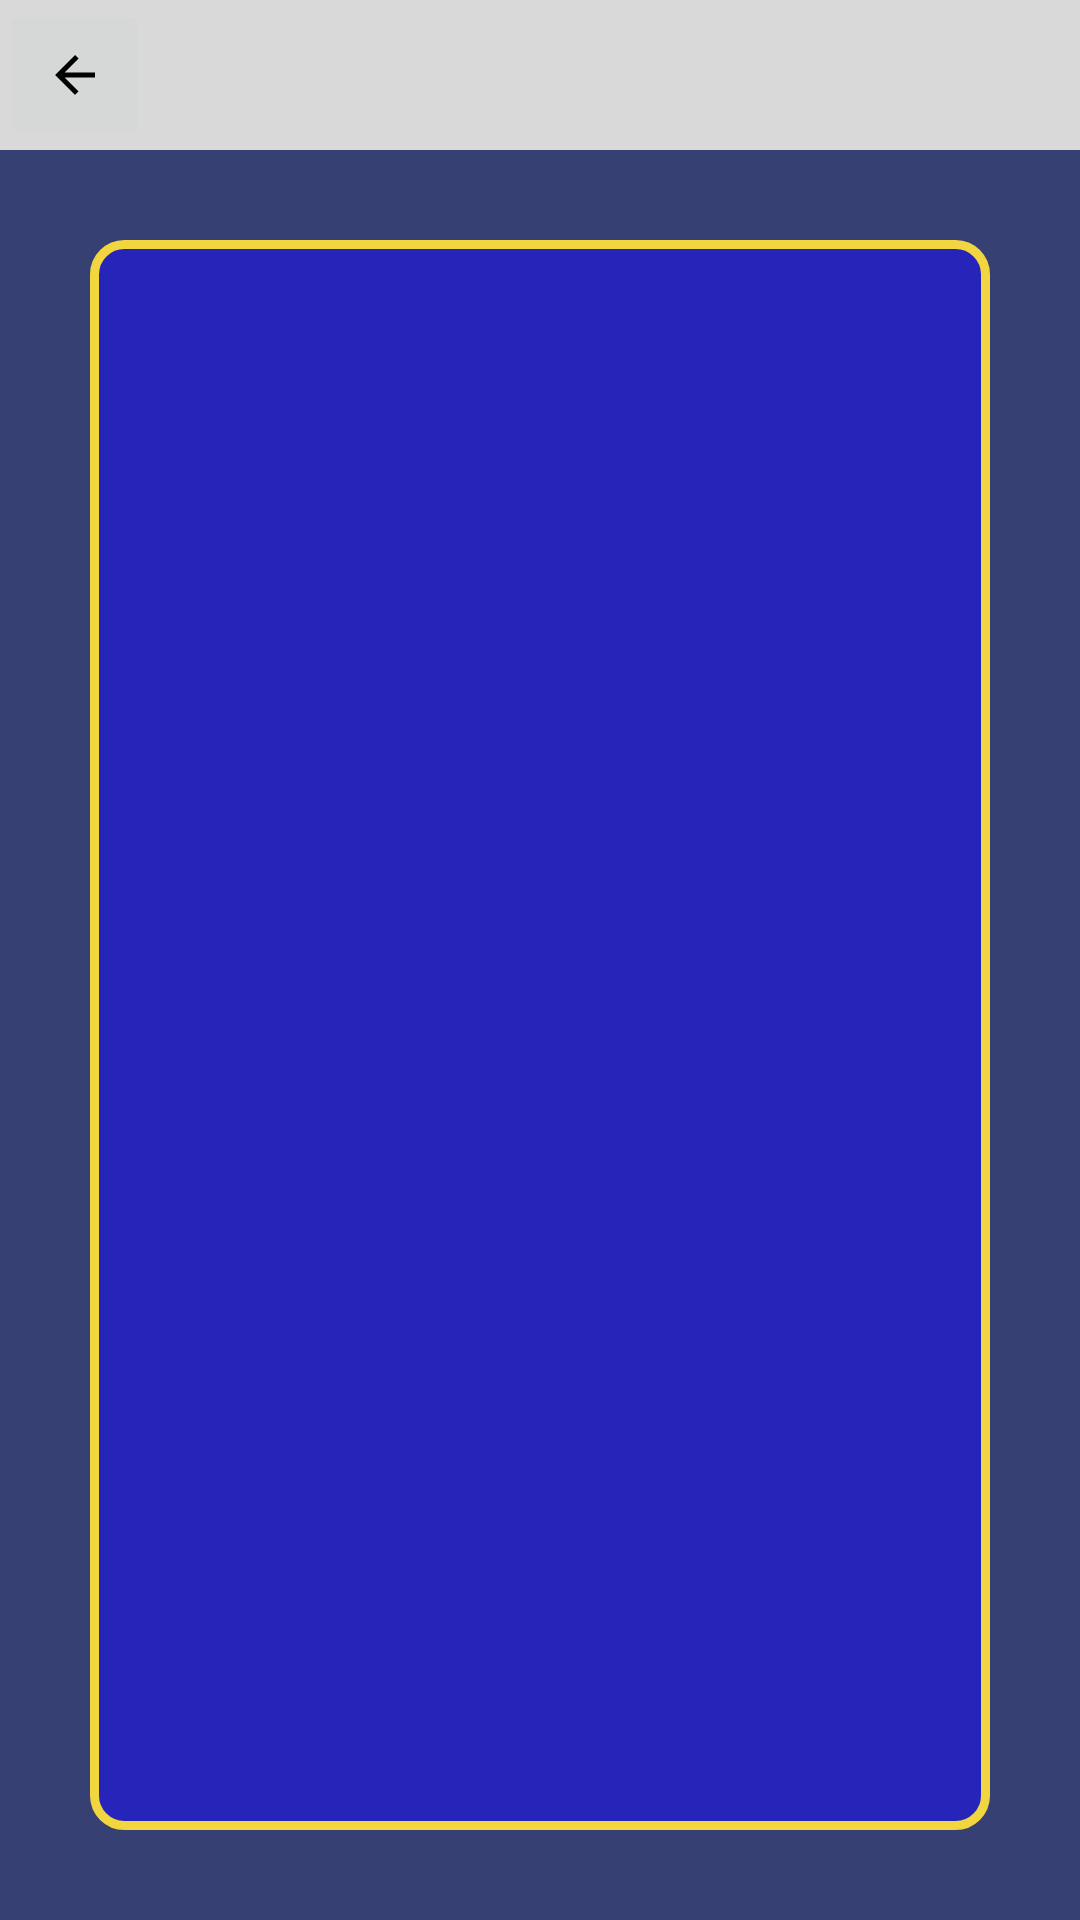

Point at icon controls on the screen. Image size 1080x1920, points as point (x, y).
arrow back: point (75, 75)
